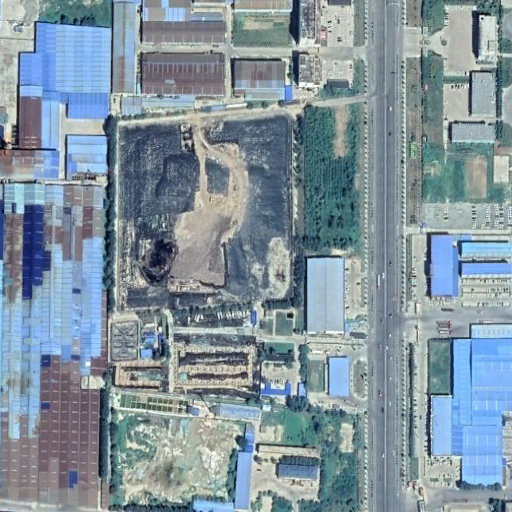lf: (108, 104, 295, 323)
